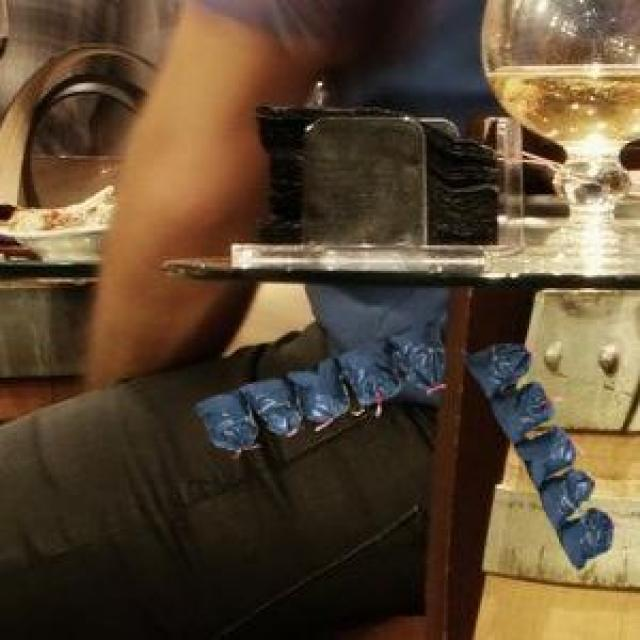waste: (469, 344, 614, 568), (194, 339, 441, 452)
